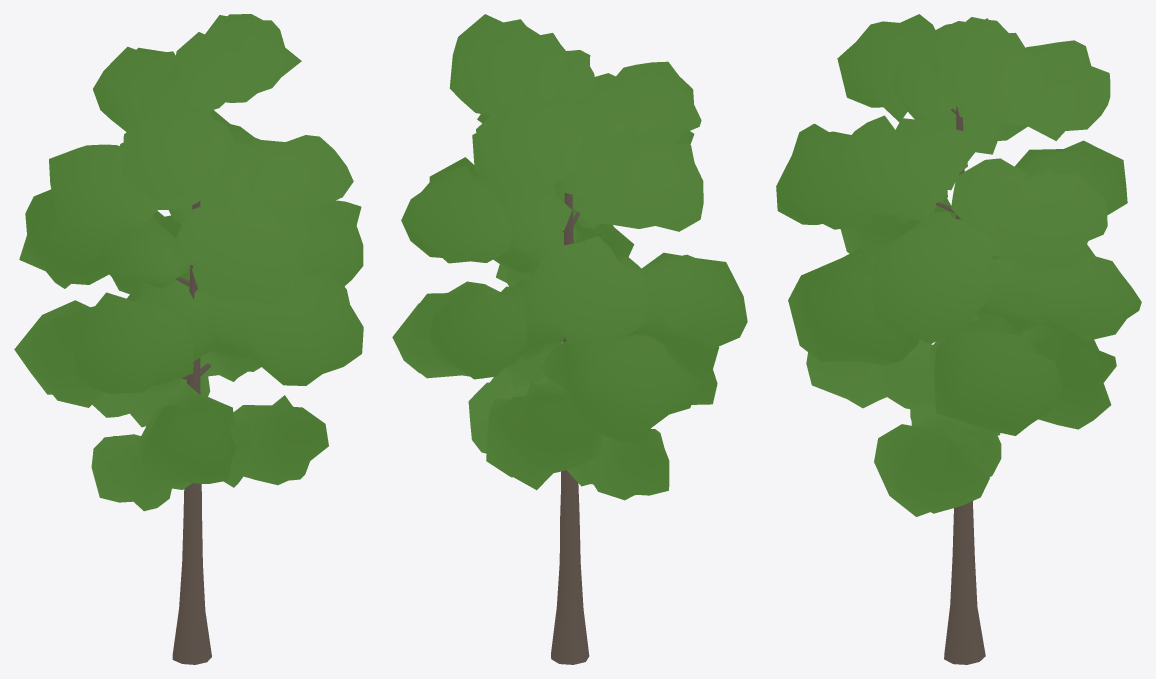
The model's file is Blender_Sweetgum_2.glb.
3 renders of one model, left to right at view 1: azimuth 30°, elevation 25°; view 2: azimuth 150°, elevation 25°; view 3: azimuth 270°, elevation 25°, orthographic. The views are drawn at different scales.
Visible parts, largest first — view 1: Blender_Sweetgum_2; view 2: Blender_Sweetgum_2; view 3: Blender_Sweetgum_2.
Part boxes in pixels (x1,y1,x2,y2): Blender_Sweetgum_2: [14, 14, 363, 664]; Blender_Sweetgum_2: [392, 14, 747, 664]; Blender_Sweetgum_2: [776, 14, 1141, 664].
Bounding box in the file's own units: 14.42 × 28.39 × 14.37.
